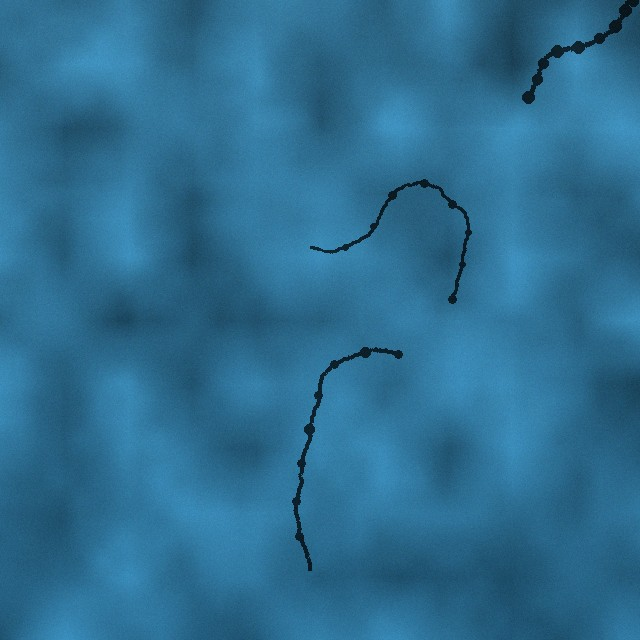crack: (288, 343, 404, 576), (305, 177, 473, 304), (521, 0, 639, 104)
